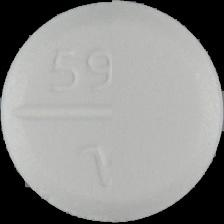0603-6240: (0, 0, 224, 224)
